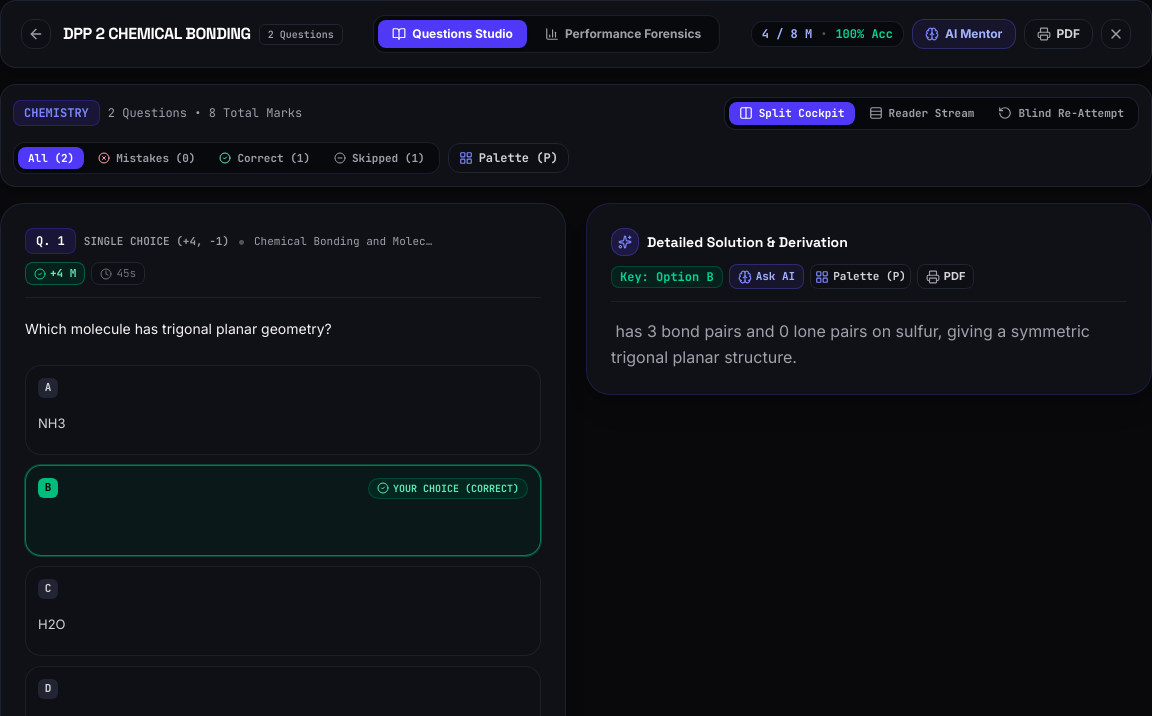
Scenario: MockTestResult (Revamped UI & Smart Focus) › switches between Questions Studio and Performance Forensics tabs smoothly
Click the button "Performance Forensics" at (623, 34), box [531,20,715,48]
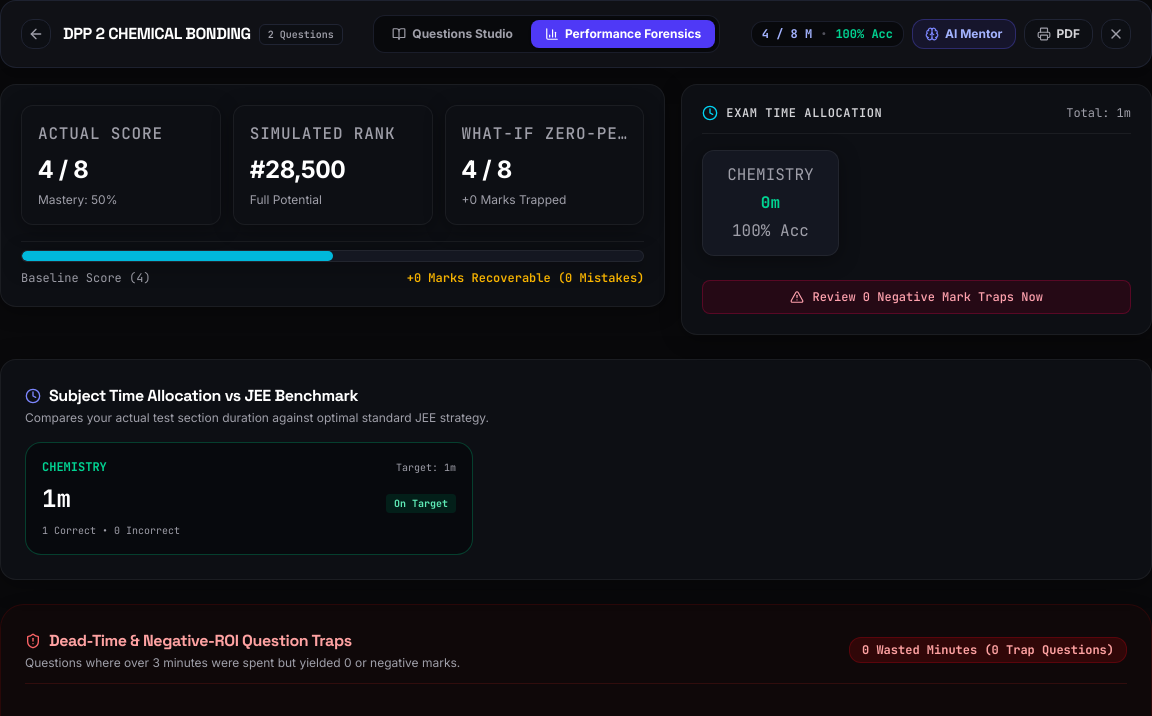
Expected: the heading "Subject Time Allocation vs JEE Benchmark" is shown, [25,385,358,406]
